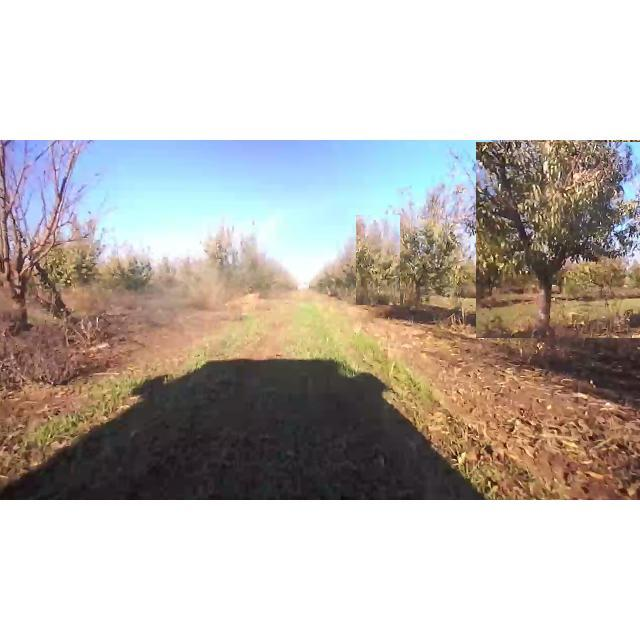direk: (476, 142, 640, 338), (0, 142, 124, 336), (379, 190, 468, 312), (196, 212, 254, 288), (356, 215, 400, 305)
